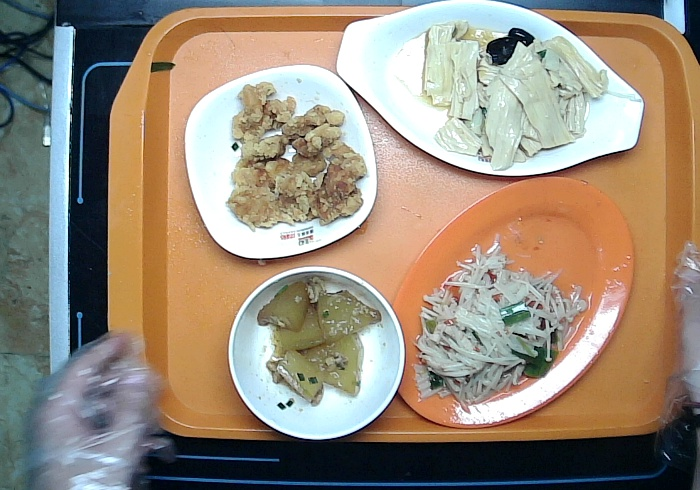NLDX-Bai_Se_Xiao_Fang_Die: (182, 62, 379, 259)
NLDX-Fan_Wan: (225, 264, 407, 442)
NLDX-Ju_Se_Pan: (390, 175, 637, 430)
NLDX-Yu_Pan: (334, 1, 647, 177)
